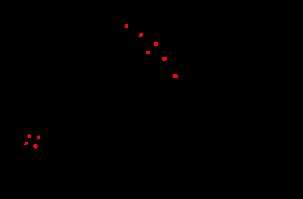Target: (33, 144, 38, 149), (162, 57, 167, 61), (173, 74, 178, 78), (139, 33, 143, 37), (154, 42, 158, 46), (27, 134, 31, 138), (125, 24, 128, 28), (146, 51, 150, 54), (37, 135, 40, 139), (24, 142, 28, 145)
